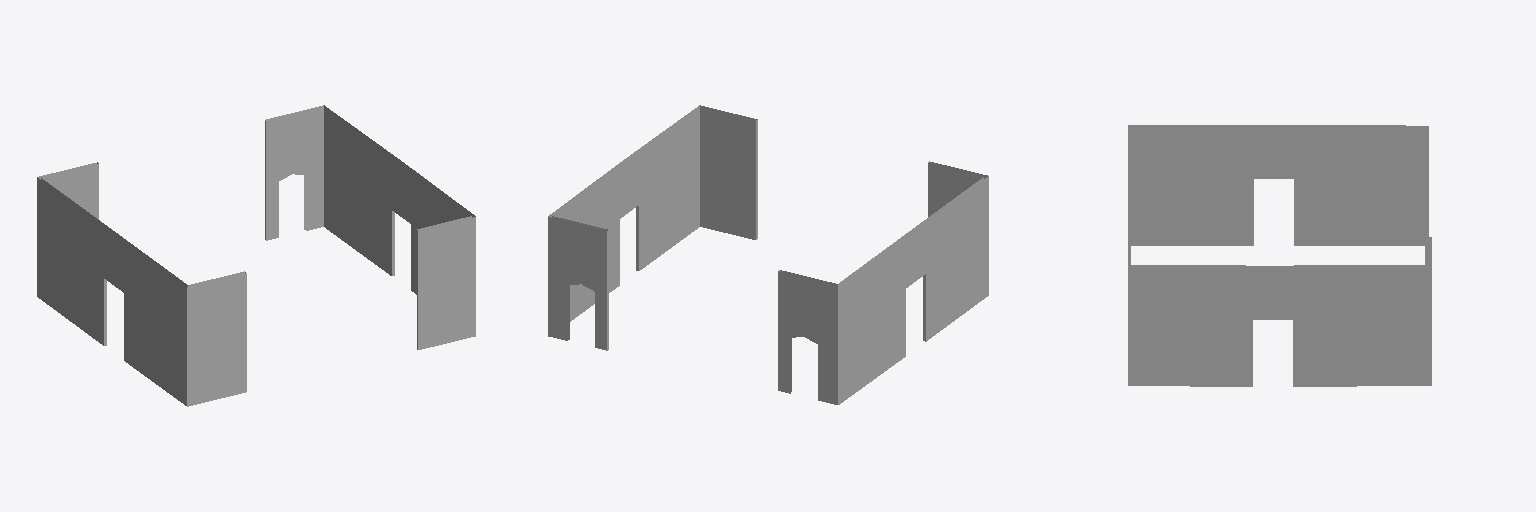
Rendered from TempleHall2.obj.
3 views of the same model, side by side, from view 1: azimuth 30°, elevation 25°; view 2: azimuth 150°, elevation 25°; view 3: azimuth 270°, elevation 25° (orthographic).
Parts seen in each view (by area): view 1: TempleHall2; view 2: TempleHall2; view 3: TempleHall2.
Part boxes in pixels (left/top/right/bottom): TempleHall2: left=37, top=105, right=475, bottom=406; TempleHall2: left=548, top=105, right=988, bottom=404; TempleHall2: left=1128, top=125, right=1431, bottom=386.
Bounding box in the file's own units: 2799 × 1102 × 2539.